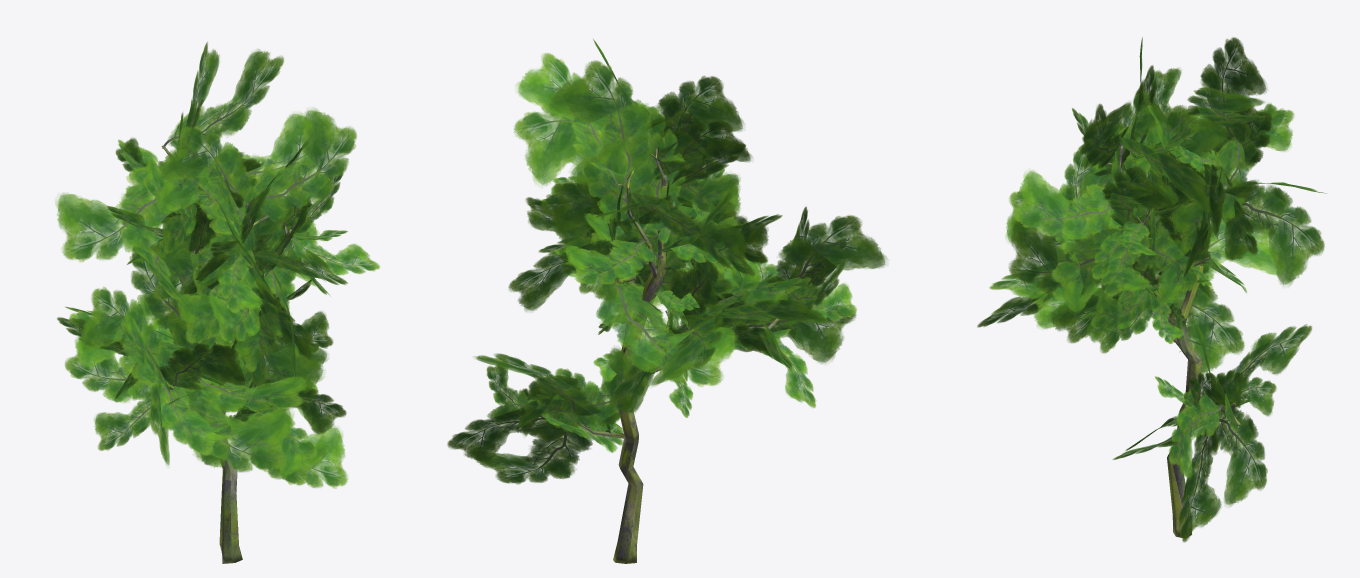
The model's file is Oak Tree.glb.
3 renders of one model, left to right at view 1: azimuth 30°, elevation 25°; view 2: azimuth 150°, elevation 25°; view 3: azimuth 270°, elevation 25°, orthographic. The views are drawn at different scales.
Visible parts, largest first — view 1: Tree.004; view 2: Tree.004; view 3: Tree.004.
Part boxes in pixels (left/top/right/bottom): Tree.004: left=55, top=42, right=379, bottom=563; Tree.004: left=447, top=39, right=887, bottom=563; Tree.004: left=977, top=37, right=1326, bottom=542.
Bounding box in the file's own units: 10.31 × 12.89 × 8.76.
2 materials, 2 textured.
